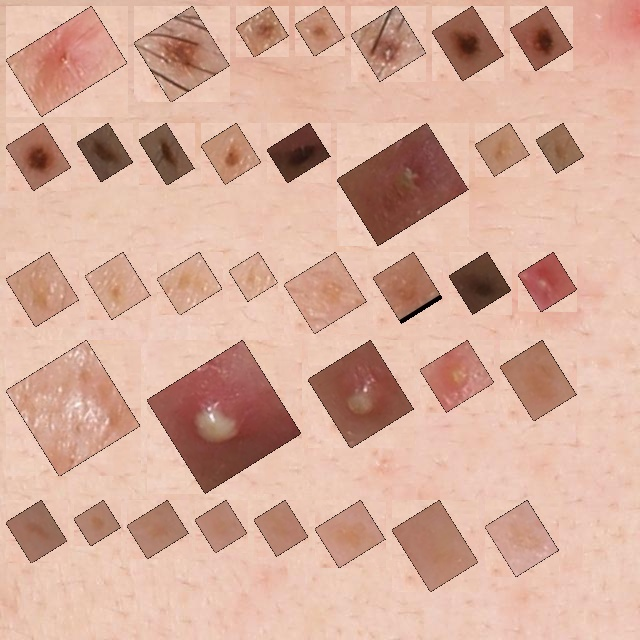hypertrophic_scar: (17, 351, 129, 465)
melasma: (403, 511, 467, 581), (295, 263, 355, 322), (511, 351, 565, 410), (496, 511, 548, 566), (17, 263, 68, 315), (384, 263, 431, 312), (326, 511, 374, 557), (96, 263, 139, 308), (168, 263, 211, 304), (17, 511, 56, 552), (138, 511, 177, 547), (265, 511, 297, 545), (486, 134, 518, 165), (206, 511, 236, 542), (240, 263, 267, 290), (547, 134, 573, 162), (85, 511, 110, 535)
nevus: (145, 17, 219, 91), (362, 17, 415, 70), (443, 17, 492, 70), (17, 134, 60, 179), (521, 17, 561, 59), (460, 263, 500, 303), (278, 134, 319, 172), (212, 134, 250, 173), (150, 134, 183, 174), (88, 134, 122, 171), (247, 17, 277, 46), (306, 17, 333, 45)
pustule: (158, 351, 290, 482), (348, 134, 457, 234), (17, 17, 116, 105), (319, 351, 403, 437), (431, 351, 483, 401), (529, 263, 566, 301)
